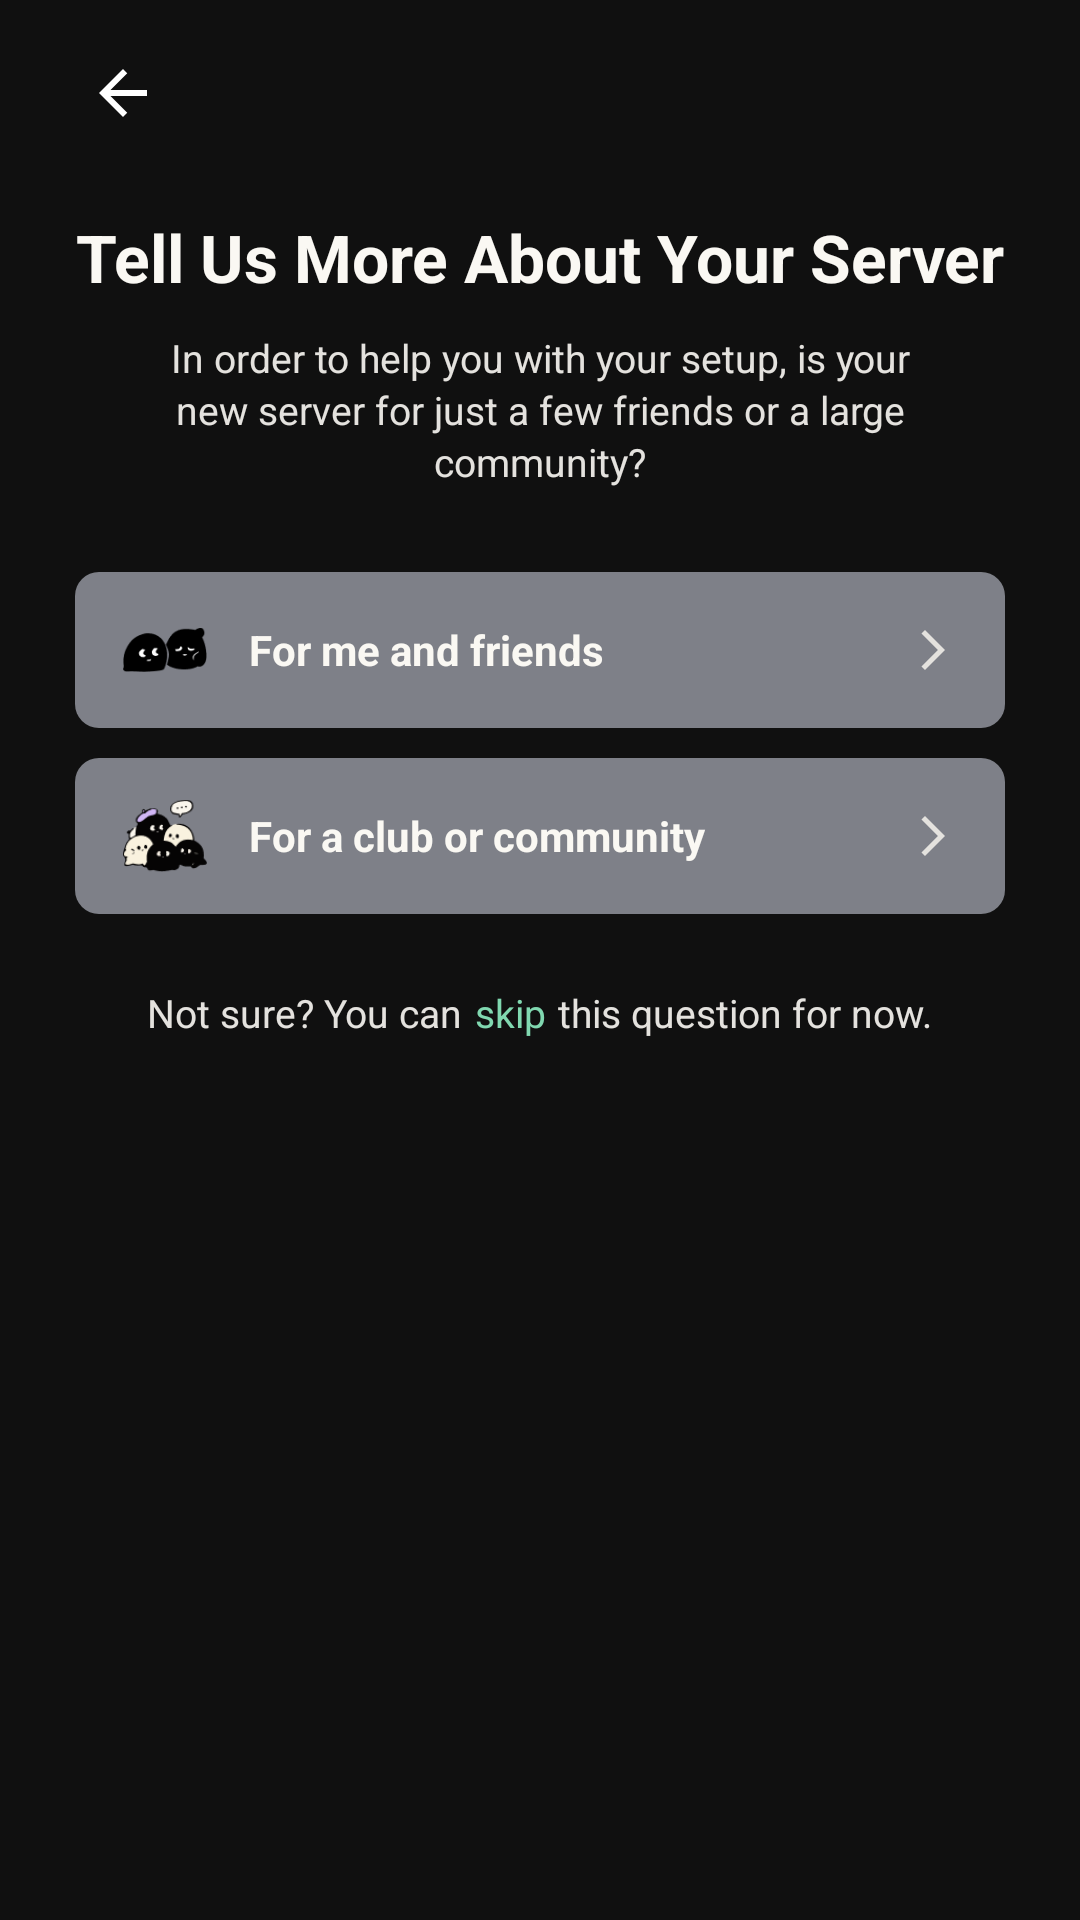

Where icons sit on this 1080*1920 app screen, as (x1, y1, x2, y2):
Back: (99, 69, 147, 117)
forward arrow: (921, 630, 945, 670), (921, 816, 945, 856)
